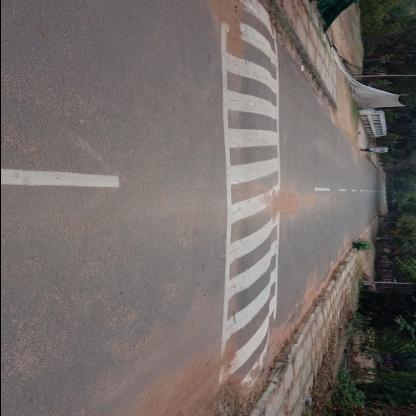speed-bumps: (208, 0, 294, 400)
